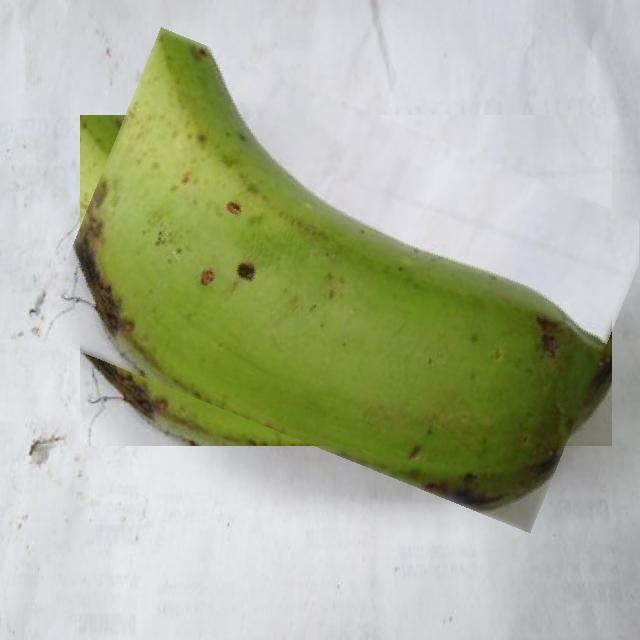Verde: (59, 71, 634, 490)
